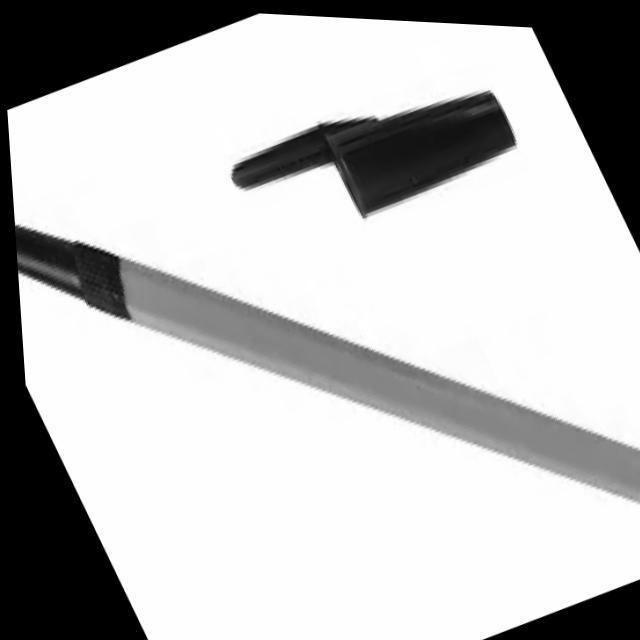pencil: (6, 87, 640, 603)
